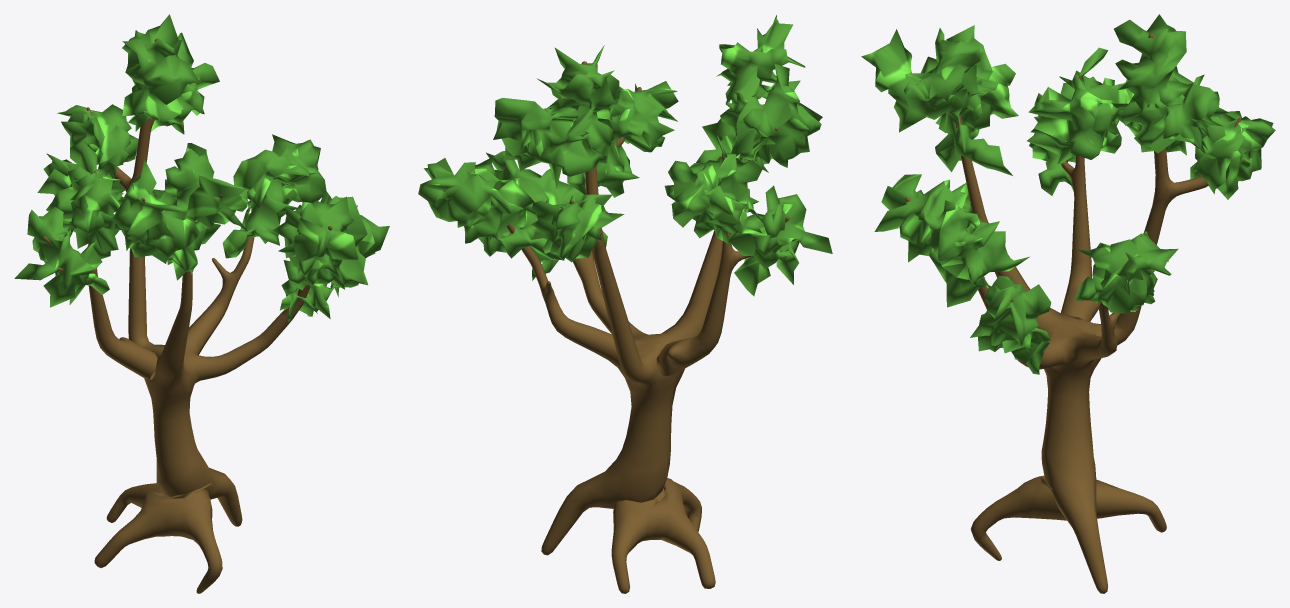
File: arbol3Dec.fbx
3 renders of one model, left to right at view 1: azimuth 30°, elevation 25°; view 2: azimuth 150°, elevation 25°; view 3: azimuth 270°, elevation 25°, orthographic. The views are drawn at different scales.
Visible parts, largest first — view 1: Icosphere.028 - copy.141; view 2: Icosphere.028 - copy.141; view 3: Icosphere.028 - copy.141.
Boxes of the visible parts, left/top/right/bottom form: Icosphere.028 - copy.141: left=14, top=14, right=389, bottom=593; Icosphere.028 - copy.141: left=418, top=15, right=832, bottom=593; Icosphere.028 - copy.141: left=861, top=14, right=1275, bottom=593.
Size of the model in its own units: 921 by 1293 by 871.
2 materials, 2 textured.
